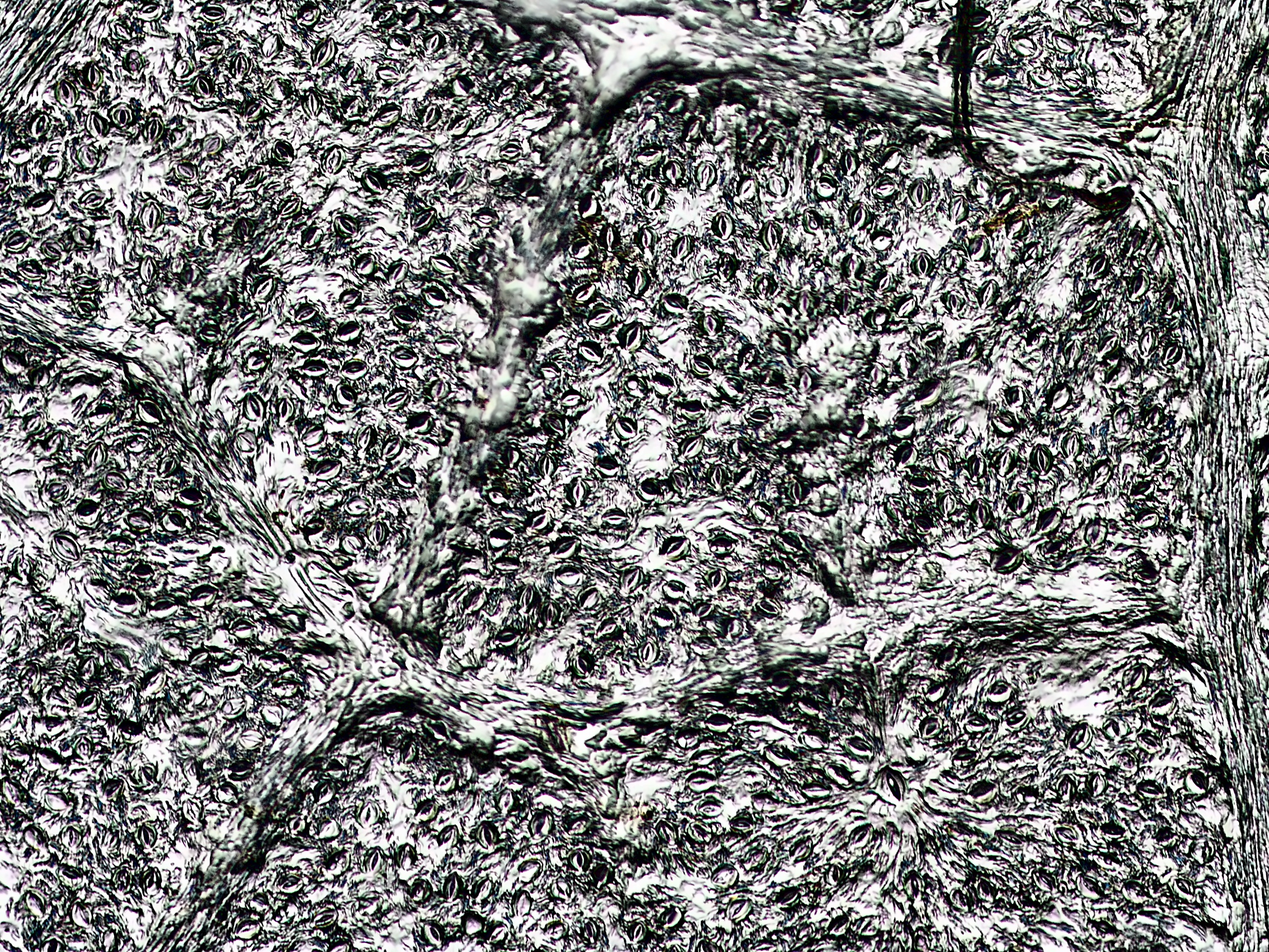stomata: (879, 766, 907, 805), (991, 543, 1024, 574), (1121, 661, 1150, 692), (52, 532, 81, 561), (134, 398, 165, 425), (310, 37, 339, 65), (53, 78, 80, 108), (1028, 443, 1053, 475), (884, 539, 918, 562), (242, 391, 266, 423), (527, 810, 554, 838), (1126, 269, 1150, 300), (659, 535, 690, 559), (770, 533, 805, 554), (693, 160, 719, 188), (1066, 721, 1092, 749), (621, 321, 646, 350), (24, 192, 56, 214), (252, 274, 278, 301), (702, 566, 729, 592), (409, 207, 437, 232), (825, 762, 854, 786), (710, 863, 740, 886), (762, 745, 793, 767), (685, 773, 719, 793), (717, 376, 745, 400), (712, 211, 735, 240), (1065, 4, 1095, 26), (86, 440, 107, 471), (844, 736, 875, 757), (360, 170, 386, 195), (679, 435, 705, 460), (1037, 508, 1063, 533), (325, 848, 351, 873), (1077, 874, 1103, 899), (36, 747, 63, 771), (969, 498, 992, 526), (421, 921, 444, 949), (312, 458, 344, 478), (290, 332, 320, 353), (340, 358, 370, 379), (189, 585, 219, 606), (1147, 693, 1177, 714), (1049, 384, 1073, 410), (789, 836, 813, 862), (847, 203, 870, 230), (649, 606, 676, 629), (985, 680, 1012, 703), (143, 113, 163, 144), (577, 341, 605, 363), (648, 373, 676, 395), (1009, 35, 1038, 56), (989, 413, 1018, 434), (879, 147, 903, 172), (550, 537, 580, 557), (848, 824, 872, 849), (447, 113, 473, 136), (464, 586, 487, 612), (145, 668, 168, 694), (1031, 869, 1057, 892), (578, 191, 600, 218), (754, 273, 776, 300), (993, 449, 1015, 476), (344, 495, 371, 517), (258, 655, 291, 673), (1123, 879, 1150, 901), (301, 88, 322, 116), (335, 321, 363, 342), (1110, 4, 1138, 25), (978, 279, 999, 307), (661, 293, 689, 314), (1086, 517, 1107, 545), (661, 580, 689, 601), (356, 423, 377, 451), (86, 405, 114, 426), (149, 596, 177, 617), (970, 779, 998, 800), (620, 567, 644, 591), (86, 111, 109, 136), (381, 434, 404, 459), (332, 215, 358, 237), (681, 116, 703, 142), (301, 425, 327, 447), (430, 377, 452, 403), (357, 800, 379, 826), (427, 255, 457, 274), (389, 348, 419, 367), (1051, 32, 1078, 53), (760, 222, 781, 249), (629, 269, 650, 296), (25, 892, 46, 919), (84, 61, 104, 89), (587, 308, 615, 328), (442, 872, 462, 900), (270, 680, 301, 698), (1059, 67, 1082, 91), (765, 171, 788, 195), (1003, 298, 1027, 321), (1096, 334, 1120, 357), (315, 780, 338, 804), (920, 714, 944, 737), (951, 746, 980, 765), (29, 112, 51, 137), (960, 335, 982, 360), (105, 650, 130, 672), (511, 889, 533, 914), (686, 820, 711, 842), (663, 159, 684, 185), (912, 251, 933, 277), (612, 417, 638, 438), (1113, 406, 1134, 432), (489, 557, 523, 573), (4, 230, 31, 250), (420, 288, 447, 308), (870, 231, 897, 251), (494, 627, 521, 647), (72, 901, 92, 928), (478, 821, 498, 848), (376, 104, 404, 123), (600, 222, 619, 250), (938, 490, 957, 518), (1185, 770, 1208, 793), (76, 144, 98, 168), (278, 196, 302, 218), (297, 4, 321, 26), (699, 313, 721, 337), (969, 235, 991, 259), (577, 586, 599, 610), (335, 382, 357, 406), (76, 500, 100, 522), (215, 782, 239, 804), (517, 859, 541, 881), (729, 897, 753, 919), (932, 450, 953, 475), (1090, 461, 1111, 486), (384, 387, 409, 408), (338, 533, 363, 554), (1005, 708, 1030, 729), (569, 476, 587, 505), (1137, 781, 1166, 799), (1062, 432, 1082, 458), (911, 179, 930, 206), (234, 919, 261, 938), (734, 465, 757, 487), (542, 415, 565, 437), (78, 690, 101, 712), (437, 824, 459, 847), (1172, 878, 1195, 900), (923, 682, 946, 704), (16, 262, 44, 280), (387, 260, 408, 284), (409, 152, 433, 173), (744, 406, 772, 424), (1149, 444, 1170, 468), (1009, 492, 1033, 513), (569, 654, 593, 675), (704, 714, 732, 732), (796, 697, 820, 718), (654, 820, 675, 844), (1028, 67, 1053, 87), (872, 178, 897, 198), (921, 325, 946, 345), (638, 639, 658, 664), (757, 596, 782, 616), (31, 363, 51, 388), (800, 785, 831, 801), (689, 636, 715, 655), (125, 512, 151, 531), (181, 798, 200, 824), (312, 909, 338, 928), (950, 194, 967, 223), (600, 508, 629, 525), (175, 488, 204, 505), (144, 867, 161, 896), (691, 750, 720, 767), (390, 309, 417, 327), (637, 148, 664, 166), (905, 872, 923, 899), (354, 253, 376, 275), (690, 354, 712, 376), (111, 103, 132, 126), (497, 79, 520, 100), (896, 295, 919, 316), (367, 521, 388, 544), (163, 511, 186, 532), (61, 825, 82, 848), (434, 769, 455, 792), (415, 799, 438, 820), (662, 906, 683, 929), (420, 102, 440, 126), (642, 184, 662, 208), (1077, 294, 1101, 314), (595, 619, 619, 639), (74, 299, 98, 319), (137, 823, 157, 847), (496, 789, 516, 813), (473, 878, 493, 902), (140, 256, 157, 284), (593, 459, 621, 476), (1139, 328, 1156, 356), (799, 731, 827, 748), (673, 234, 692, 259), (1130, 479, 1155, 498), (364, 848, 383, 873), (324, 146, 342, 172), (841, 150, 859, 176), (968, 455, 986, 481), (542, 601, 560, 627), (43, 792, 69, 810), (994, 831, 1025, 846), (187, 190, 216, 206), (144, 201, 160, 230), (898, 446, 919, 468), (813, 177, 836, 197), (573, 282, 596, 302), (23, 410, 43, 433), (317, 818, 340, 838), (963, 713, 990, 730), (1144, 405, 1163, 429), (1053, 825, 1077, 844), (1137, 733, 1161, 752), (796, 290, 814, 315), (76, 736, 94, 761), (200, 5, 226, 22), (556, 567, 582, 584), (111, 594, 137, 611), (42, 156, 63, 177), (425, 31, 446, 52), (247, 350, 269, 370), (300, 226, 322, 246), (751, 501, 773, 521), (235, 431, 257, 451), (261, 705, 283, 725), (485, 925, 507, 945), (780, 885, 800, 907), (875, 270, 894, 293), (538, 454, 557, 477), (1090, 254, 1109, 277), (105, 472, 128, 491), (489, 531, 513, 549), (231, 619, 255, 637), (239, 730, 263, 748), (697, 800, 724, 816), (976, 877, 994, 901), (433, 339, 458, 356), (278, 875, 303, 892), (70, 276, 100, 290), (301, 361, 329, 376), (669, 472, 689, 493), (394, 468, 415, 488), (1058, 774, 1073, 802), (738, 177, 757, 199), (1063, 340, 1082, 362), (760, 560, 782, 579), (3, 353, 25, 372), (44, 430, 63, 452), (709, 537, 735, 553), (339, 289, 362, 307), (580, 920, 598, 943), (81, 191, 105, 208), (233, 52, 249, 77), (138, 1, 163, 17), (680, 402, 705, 418), (530, 510, 550, 530), (129, 564, 154, 580), (400, 844, 416, 869), (1089, 773, 1105, 798), (274, 140, 293, 161), (70, 225, 91, 244), (725, 616, 744, 637), (159, 455, 178, 476), (950, 889, 969, 910), (262, 34, 280, 56), (1161, 292, 1179, 314), (41, 241, 64, 258), (559, 390, 582, 407), (235, 216, 252, 239), (277, 397, 294, 420), (198, 41, 224, 56), (294, 306, 318, 322), (826, 863, 842, 887), (550, 878, 569, 898), (194, 76, 212, 97), (731, 437, 749, 458), (1163, 343, 1181, 364), (838, 289, 852, 316), (174, 163, 196, 180), (1136, 511, 1158, 528), (869, 363, 886, 385), (375, 66, 398, 82), (80, 657, 96, 680), (203, 134, 222, 153), (244, 101, 264, 119), (638, 226, 654, 248), (728, 818, 755, 831), (520, 584, 534, 609), (45, 483, 68, 498), (451, 77, 470, 95), (695, 600, 715, 617), (912, 517, 933, 533), (189, 651, 210, 667), (798, 369, 813, 391), (289, 815, 306, 834), (198, 329, 221, 343), (790, 479, 804, 502), (388, 33, 408, 49), (570, 849, 586, 869), (946, 292, 961, 313), (711, 465, 725, 487), (908, 478, 930, 492), (505, 447, 519, 467), (60, 635, 76, 652), (629, 922, 644, 940), (501, 144, 521, 157)
